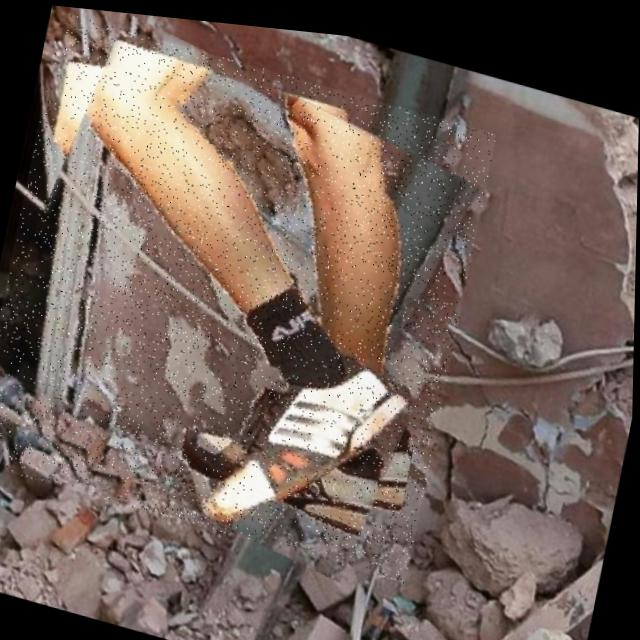Person in Rubble: (0, 5, 498, 581)
